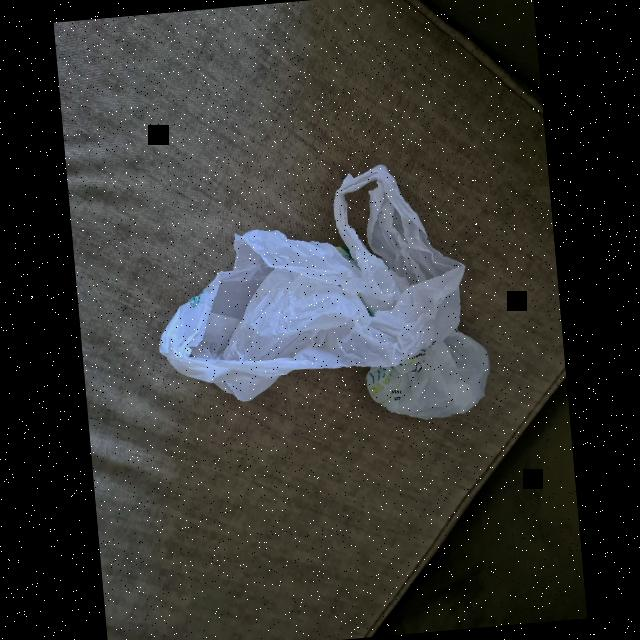plastic_bag: (145, 154, 493, 442)
